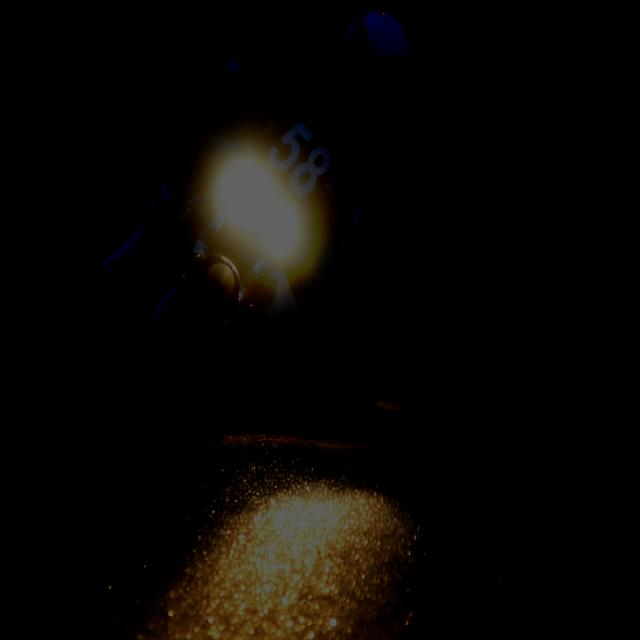Motorbike: (104, 60, 355, 436)
